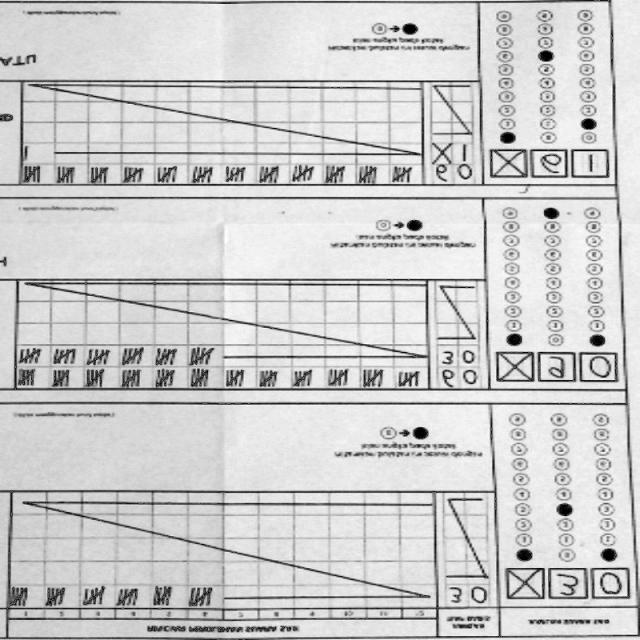Suara: (502, 566, 626, 608), (496, 353, 622, 389), (488, 148, 606, 186)
